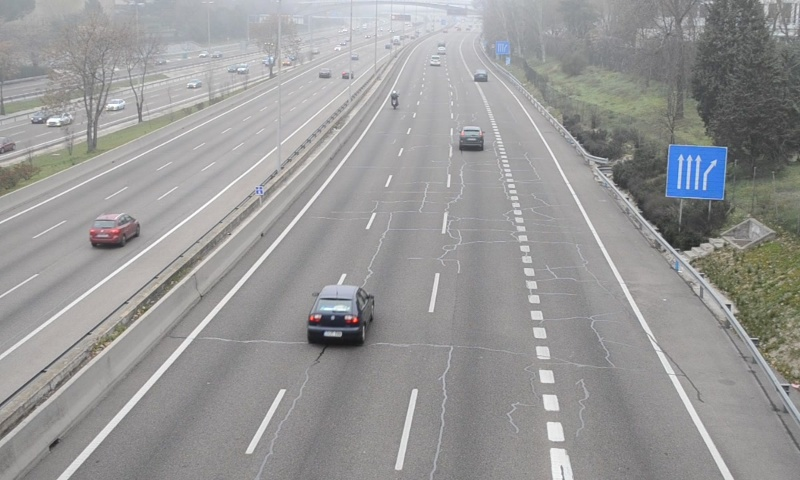car: (306, 284, 376, 344), (458, 126, 483, 150), (473, 70, 488, 82)
motorcycle: (389, 90, 398, 112)
